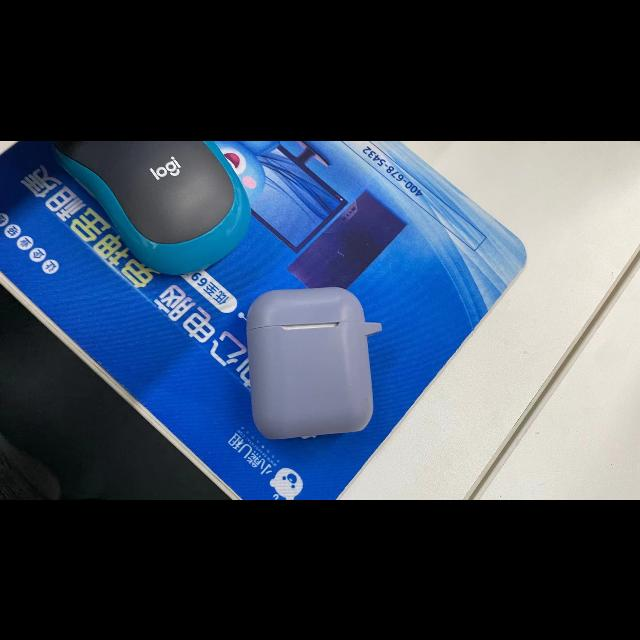airpods: (247, 286, 382, 439)
